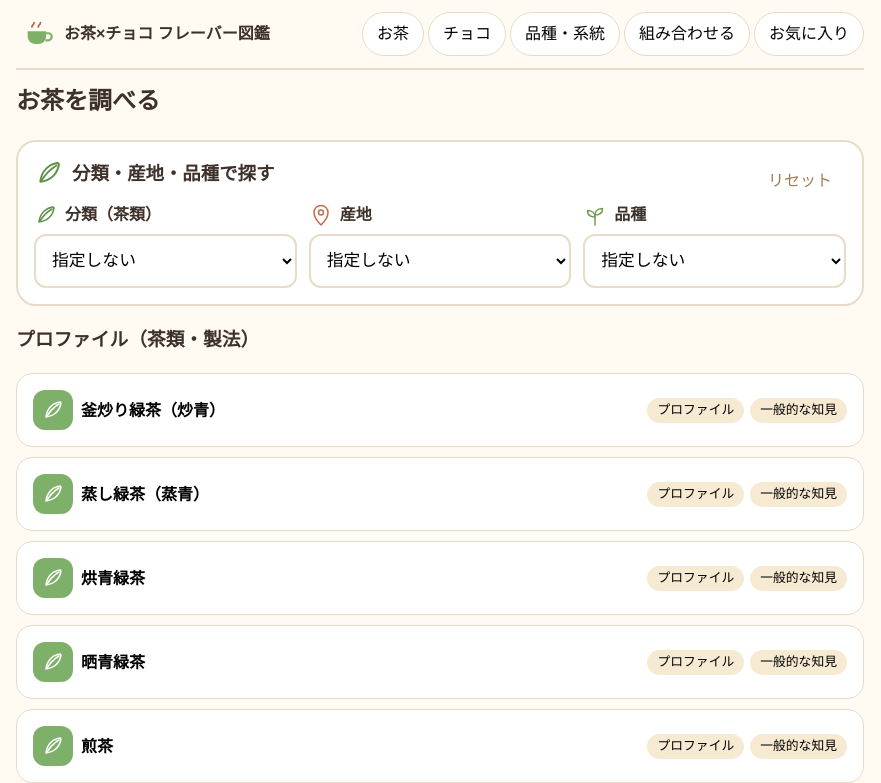
調べる：部分指定（1〜2軸）でもホイール（プレビュー）が出る（第5弾・要件6） › お茶：分類のみの指定でプレビューが出る
This screenshot has width=881, height=783.
Step 1. Select "緑茶" in the dropdown named "分類（茶類）で絞り込み" → (165, 261), box top-left (34, 234), bottom-right (297, 288)
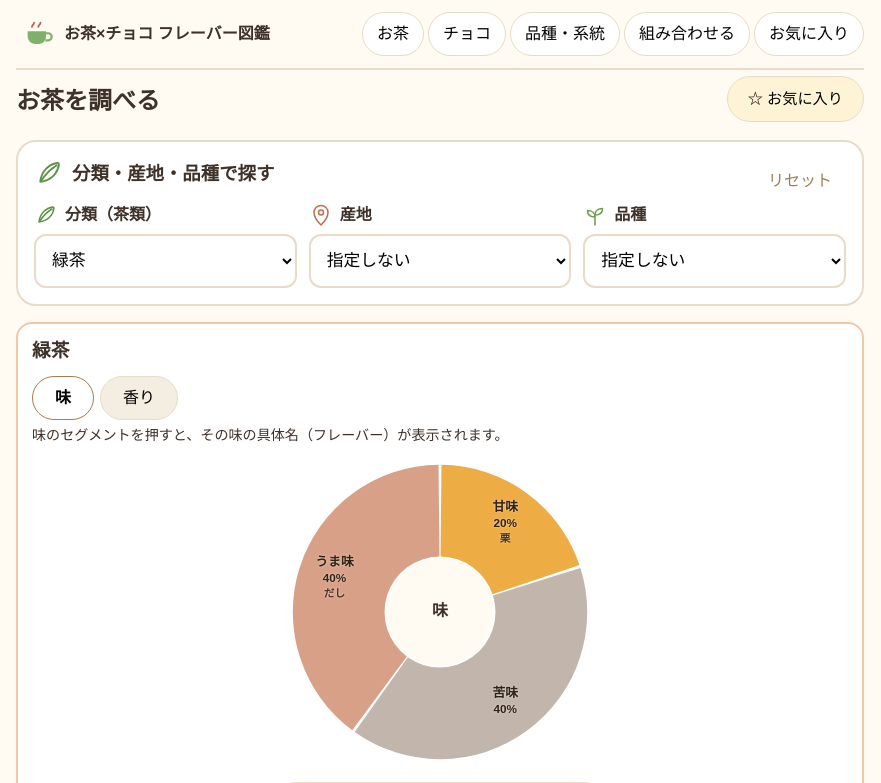
Result: the element with class "combo-preview" shows "緑茶" at top-left (32, 340), bottom-right (69, 361)
Result: the icon with class "wheel" is shown at top-left (280, 452), bottom-right (600, 772)
